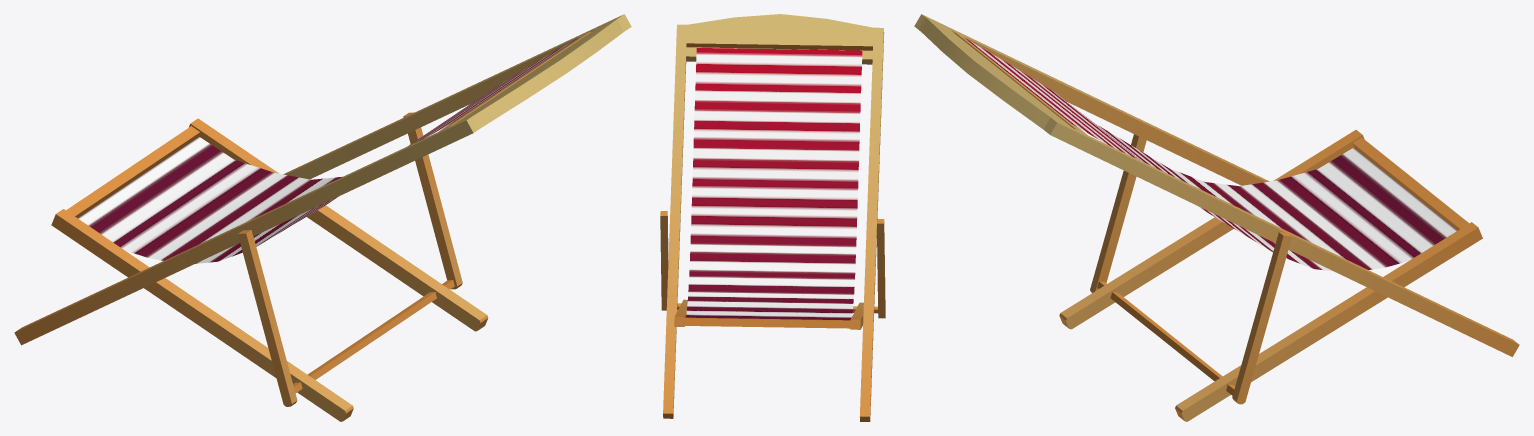
File: ENV_BeachChair2.fbx
The picture shows the model from 3 angles, left to right: view 1: azimuth 30°, elevation 25°; view 2: azimuth 150°, elevation 25°; view 3: azimuth 270°, elevation 25°; orthographic projection. The views are drawn at different scales.
Parts seen in each view (by area): view 1: ENV_BeachChair2; view 2: ENV_BeachChair2; view 3: ENV_BeachChair2.
Boxes of the visible parts, x1,y1,x2,y2 form: ENV_BeachChair2: (14,14,631,421); ENV_BeachChair2: (660,14,885,421); ENV_BeachChair2: (914,14,1519,421).
Size of the model in its own units: 1.49 by 1.12 by 1.78.
